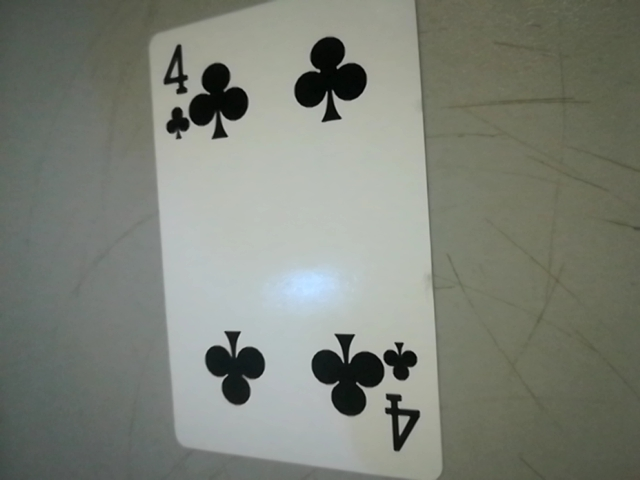mh 4: (374, 331, 434, 465)
